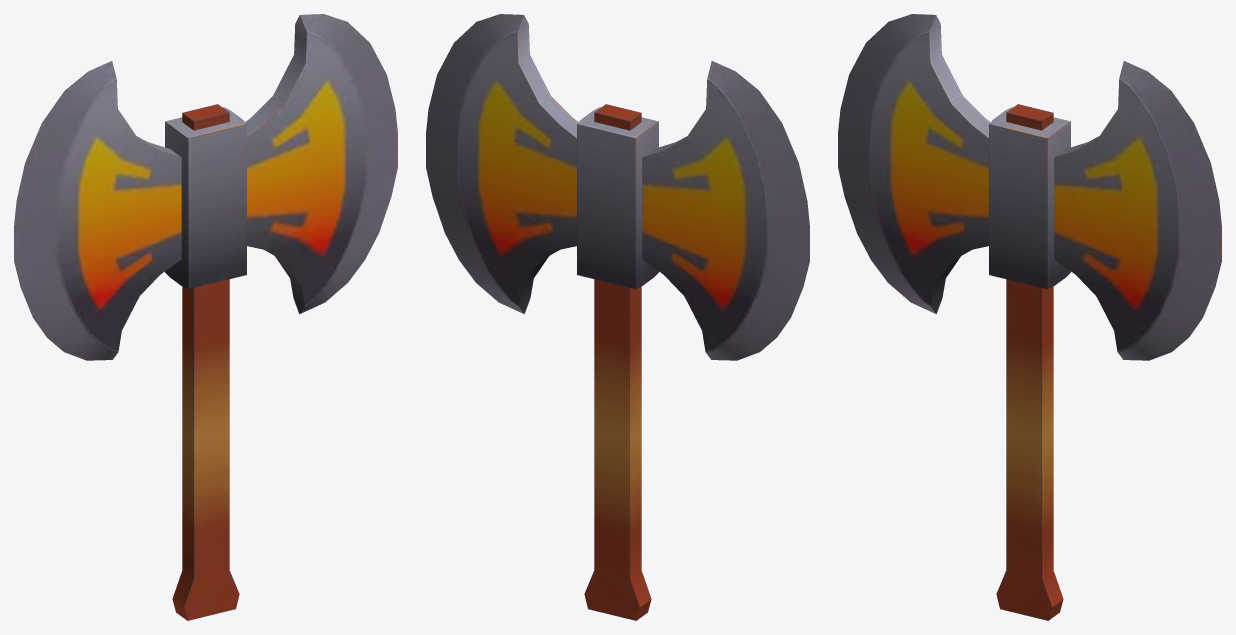
The model's file is espada_04.glb.
The picture shows the model from 3 angles, left to right: view 1: azimuth 30°, elevation 25°; view 2: azimuth 150°, elevation 25°; view 3: azimuth 330°, elevation 25°; orthographic projection.
Parts seen in each view (by area): view 1: ASSET_4_OK_4_All_0; view 2: ASSET_4_OK_4_All_0; view 3: ASSET_4_OK_4_All_0.
Boxes of the visible parts, x1,y1,x2,y2 form: ASSET_4_OK_4_All_0: (14, 14, 397, 620); ASSET_4_OK_4_All_0: (426, 14, 809, 620); ASSET_4_OK_4_All_0: (838, 14, 1221, 620).
Size of the model in its own units: 3.81 by 5.44 by 0.4001.
Materials: 1 (1 with a texture image).
